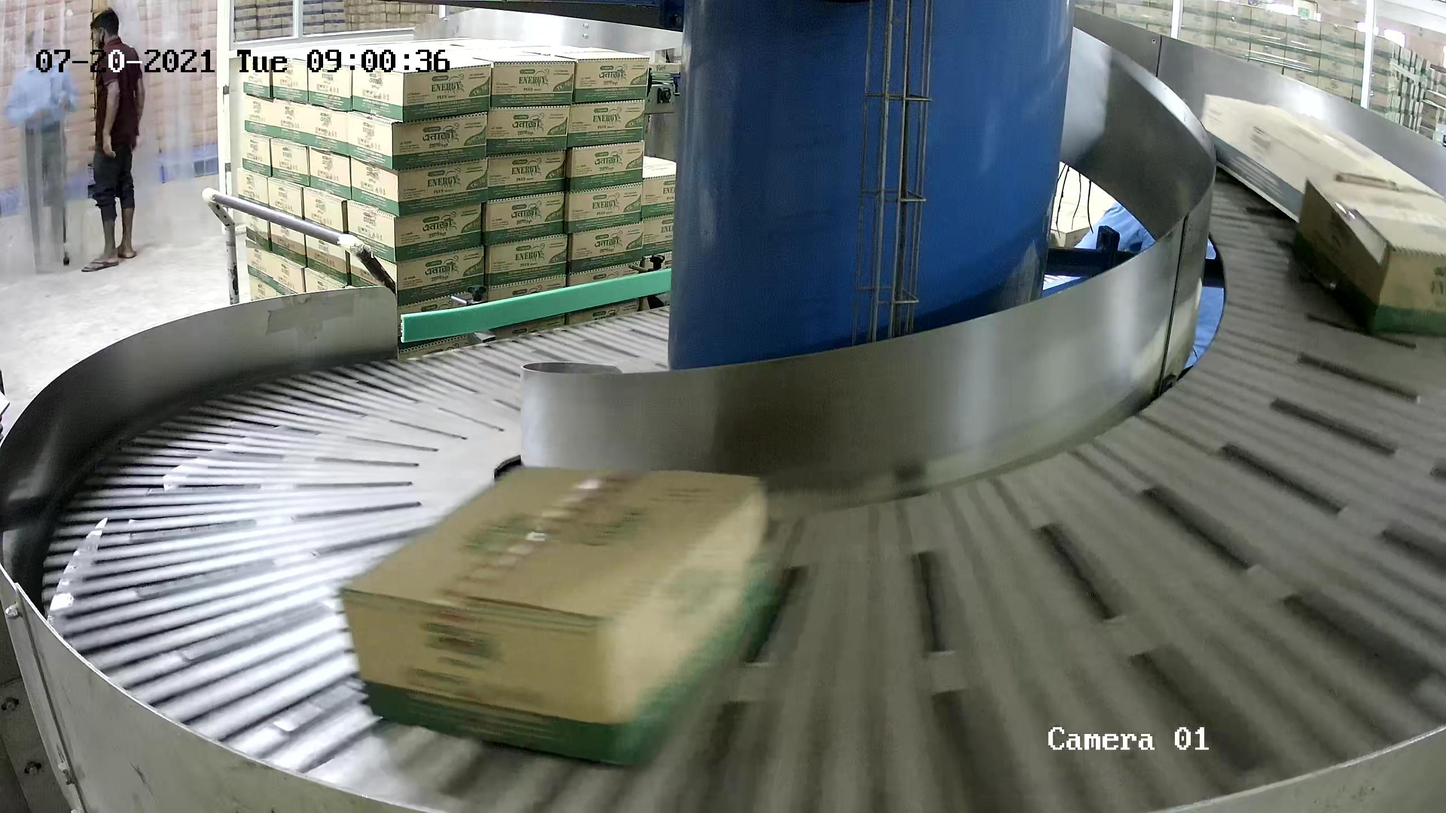Box: (338, 463, 781, 772), (1192, 92, 1446, 240), (1291, 175, 1446, 342)
